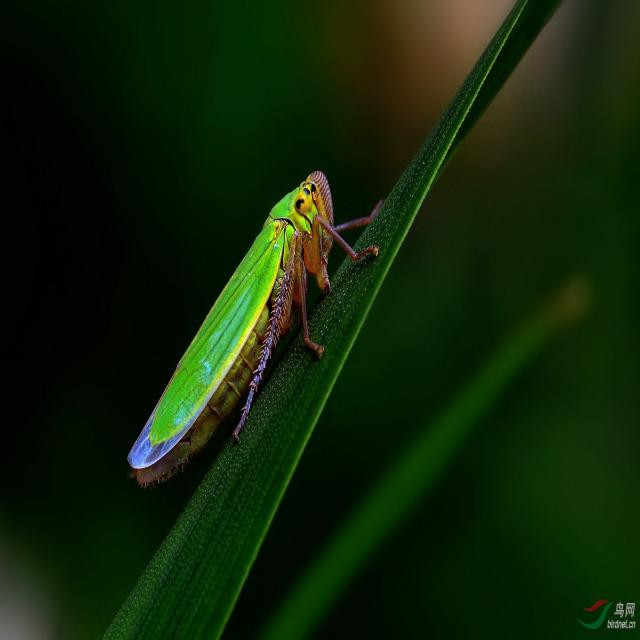Yechan: (124, 164, 384, 510)
